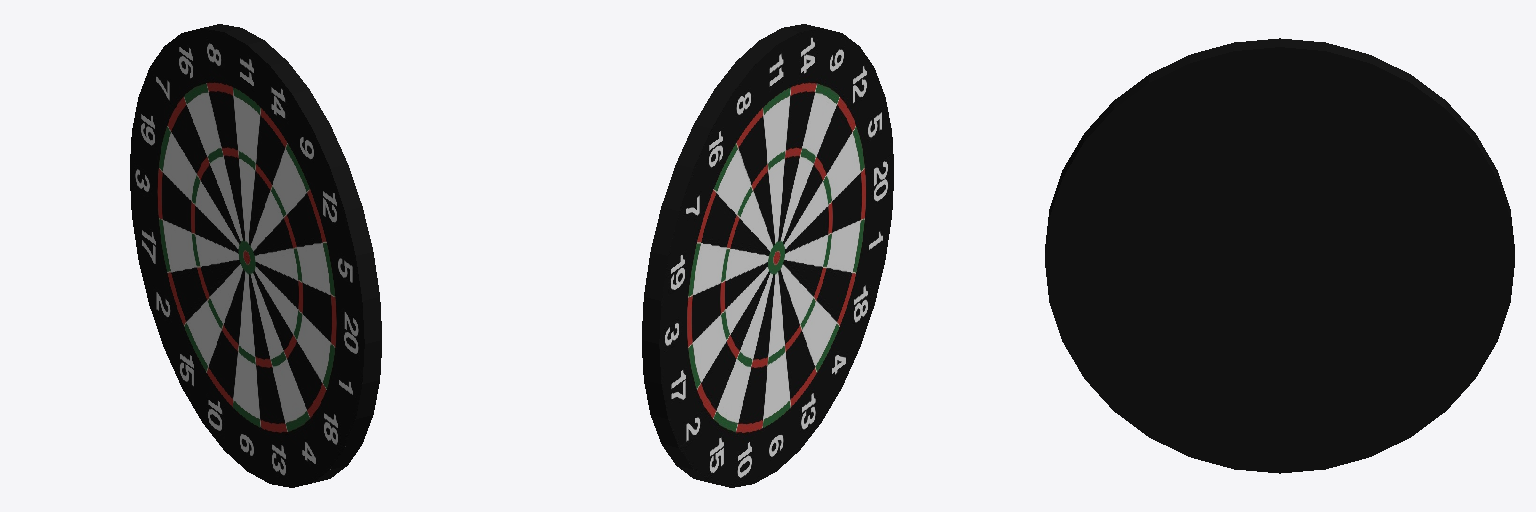
3 views of the same model, side by side, from view 1: azimuth 30°, elevation 25°; view 2: azimuth 150°, elevation 25°; view 3: azimuth 270°, elevation 25° (orthographic).
Visible parts, largest first — view 1: Cylinder; view 2: Cylinder; view 3: Cylinder.
Part boxes in pixels (left/top/right/bottom): Cylinder: left=130, top=24, right=381, bottom=487; Cylinder: left=642, top=24, right=893, bottom=487; Cylinder: left=1045, top=38, right=1514, bottom=473.
Bounding box in the file's own units: 0.02 × 0.46 × 0.46.
Materials: 1 (1 with a texture image).